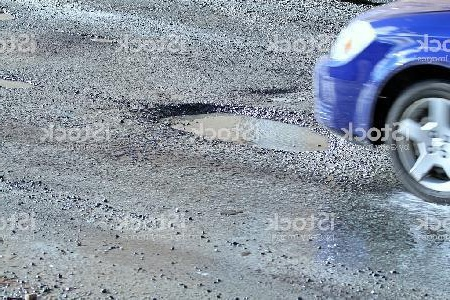pothole: (139, 99, 336, 156), (0, 74, 36, 89)
